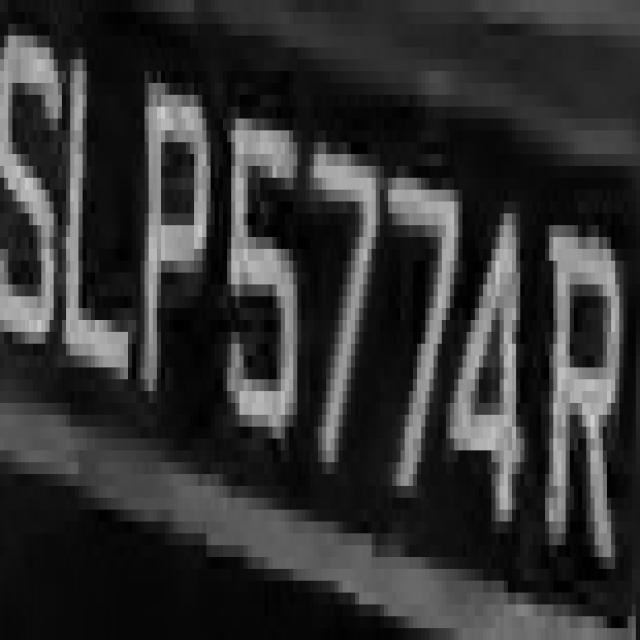4: (450, 178, 533, 557)
5: (219, 71, 310, 474)
7: (380, 130, 462, 569), (297, 130, 388, 486)
L: (54, 24, 132, 450)
P: (132, 59, 215, 427)
R: (545, 202, 619, 604)
S: (4, 36, 54, 403)
